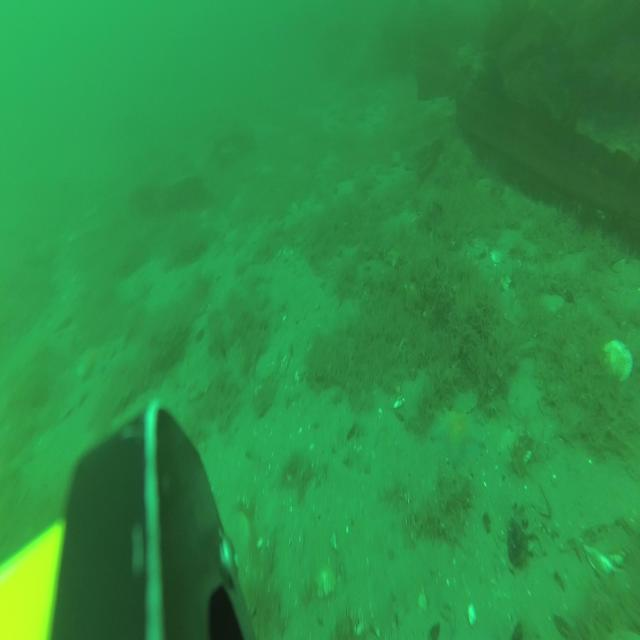scallop: (601, 336, 632, 382)
starfish: (426, 404, 486, 463)
